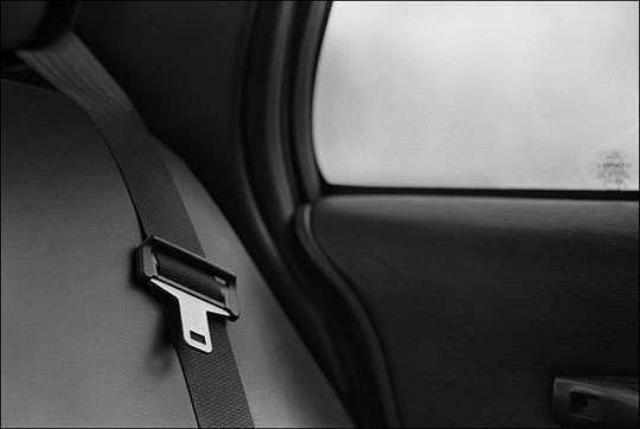Seatbelt: (12, 27, 258, 428)
